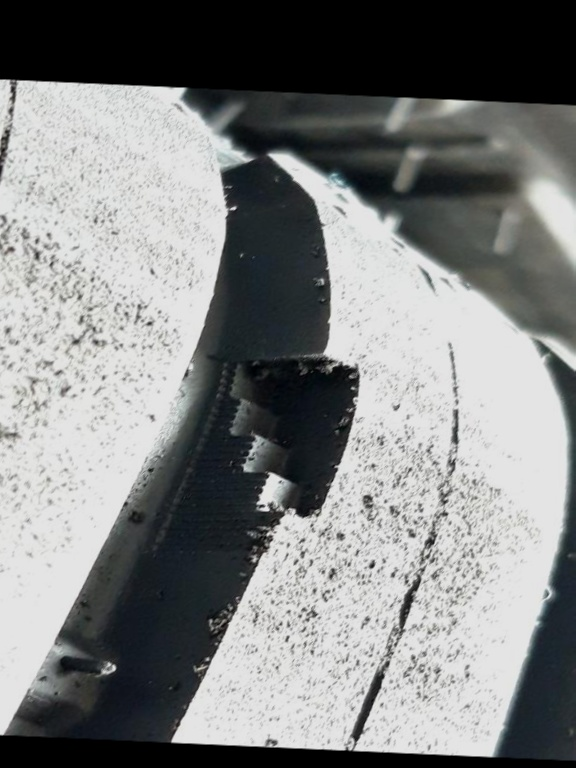temoin:95: (156, 332, 382, 569)
